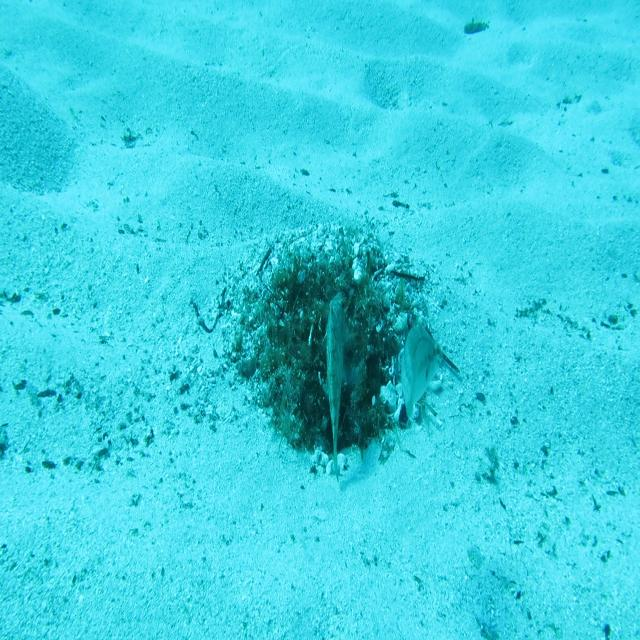FAN: (319, 286, 355, 486)
core_nest: (302, 276, 354, 314)
female: (394, 317, 444, 425)
nest: (216, 212, 448, 485)
vegetation: (462, 18, 492, 38)
